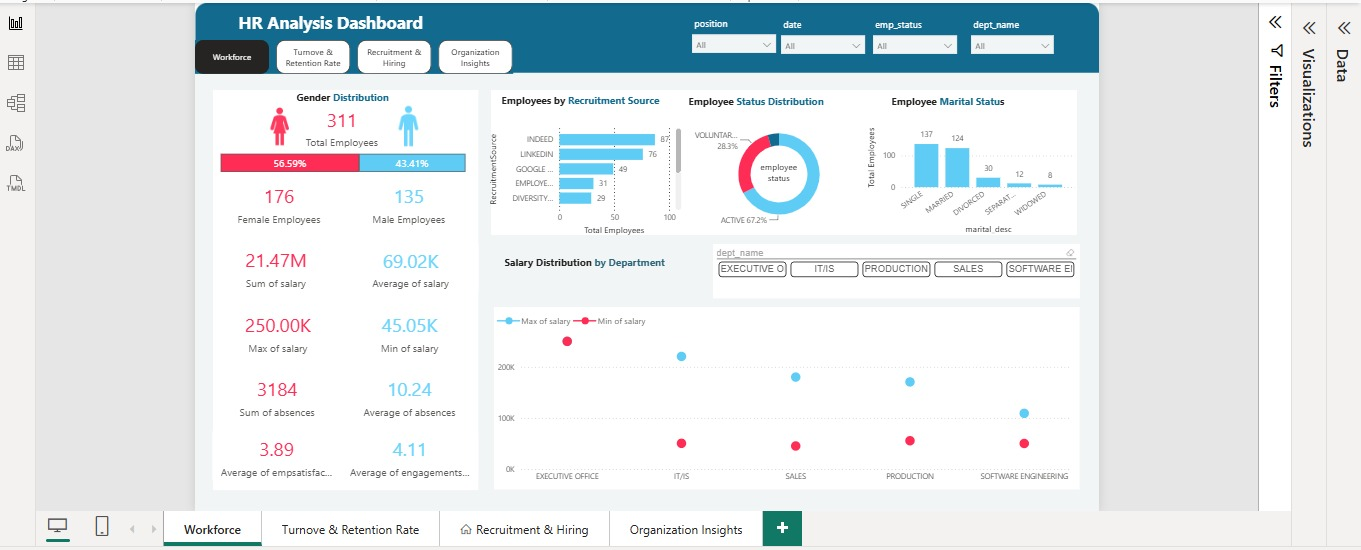

What the dashboard file says about the page in this screenshot:
{"tool":"powerbi","page":{"name":"Workforce","canvas":[1280,720],"ordinal":0},"visuals":[{"type":"shape","box":[419.5,123.3,830.6,205.5],"z":0},{"type":"donutChart","fields":{"Y":["fact_hr_snapshot.No. of Emp"],"Category":["dim_emp_status.emp_status"]},"box":[702.8,160,249.4,164.4],"z":0,"group":"g2"},{"type":"columnChart","fields":{"Category":["dim_emp.marital_desc"],"Y":["fact_hr_snapshot.No. of Emp"]},"box":[948.3,163.3,304.5,170],"z":0,"group":"g1"},{"type":"clusteredBarChart","fields":{"Category":["dim_recruitment.RecruitmentSource"],"Y":["fact_hr_snapshot.No. of Emp"]},"box":[412.9,164.3,281.7,170],"z":0,"group":"g3"},{"type":"textbox","box":[780.6,217.7,93.3,48.3],"z":1000,"group":"g2"},{"type":"shape","box":[424.3,431.4,830,258.6],"z":1000},{"type":"shape","box":[25.1,122.7,376.2,567.3],"z":2000},{"type":"textbox","box":[57.2,5.6,344.5,58.6],"z":3000},{"type":"hundredPercentStackedBarChart","fields":{"Series":["dim_emp.sex"],"Y":["fact_hr_snapshot.No. of Emp"]},"box":[25.2,160.1,366.7,124.8],"z":4000},{"type":"card","fields":{"Values":["dim_emp.Male Employees"]},"box":[206.2,239.4,195.1,89.5],"z":5000},{"type":"card","fields":{"Values":["Sum(fact_hr_snapshot.salary)"]},"box":[207,330.4,195.3,89.3],"z":6000},{"type":"card","fields":{"Values":["fact_hr_snapshot.Min Salary"]},"box":[206.2,421.4,195.1,89.5],"z":7000},{"type":"card","fields":{"Values":["fact_hr_snapshot.Average Absences"]},"box":[206.2,511.9,195.1,89.5],"z":8000},{"type":"card","fields":{"Values":["dim_emp.Female Employees"]},"box":[26.2,239.4,187.1,89.5],"z":9000},{"type":"card","fields":{"Values":["Avg(fact_hr_snapshot.salary)"]},"box":[15.1,330.9,198.1,89.5],"z":10000},{"type":"card","fields":{"Values":["fact_hr_snapshot.Max Salary"]},"box":[26.2,421.4,182,89.5],"z":11000},{"type":"card","fields":{"Values":["Sum(fact_hr_snapshot.absences)"]},"box":[26.2,511.9,180,89.5],"z":12000},{"type":"card","fields":{"Values":["Avg(fact_hr_snapshot.engagementsurvey)"]},"box":[205.2,596.4,196.1,89.5],"z":13000},{"type":"card","fields":{"Values":["fact_hr_snapshot.Average Satisfaction"]},"box":[24.1,596.4,181,89.5],"z":14000},{"type":"slicer","fields":{"Values":["dim_position.position"]},"box":[566.2,16.7,138.6,71.8],"z":15000},{"type":"slicer","fields":{"Values":["dim_emp_status.emp_status"]},"box":[694.8,16.7,138.6,71.8],"z":16000},{"type":"slicer","fields":{"Values":["Calendar_Hire.Year"]},"box":[820.6,17,138.9,65.2],"z":17000},{"type":"slicer","fields":{"Values":["dim_position.position"]},"box":[950.6,16.7,138.6,71.8],"z":18000},{"type":"slicer","fields":{"Values":["dim_department.dept_name"]},"box":[1089.9,17,137.5,70.9],"z":19000},{"type":"actionButton","box":[101.1,62.2,99.9,40],"z":20000},{"type":"actionButton","box":[264.3,62.2,156.6,40],"z":21000},{"type":"textbox","box":[430,122.9,242.9,51.4],"z":22000},{"type":"textbox","box":[138.9,119.1,146,39.7],"z":23000},{"type":"textbox","box":[433.7,352.7,411.5,40.5],"z":24000},{"type":"image","box":[86,140.7,67.4,68.6],"z":25000},{"type":"group","id":"g1","title":"Group 1","box":[948.3,163.3,305,170],"z":26000},{"type":"group","id":"g2","title":"Group 2","box":[702.8,160,249.4,164.4],"z":27000},{"type":"group","id":"g3","title":"Group 3","box":[412.9,164.3,281.4,170],"z":28000},{"type":"image","box":[264.9,138.5,74.5,71],"z":32000},{"type":"card","fields":{"Values":["fact_hr_snapshot.No. of Emp"]},"box":[120.5,134.6,185.7,89.3],"z":33000},{"type":"lineChart","title":"Max and Min of Annual Salary by Job Level","fields":{"Category":["dim_department.dept_name"],"Y":["fact_hr_snapshot.Max Salary","fact_hr_snapshot.Min Salary"]},"box":[424.3,431.4,834.3,258.6],"z":34000},{"type":"textbox","box":[694.5,124.7,265,39.7],"z":35000},{"type":"textbox","box":[982.2,124.7,238.1,39.7],"z":36000},{"type":"ChicletSlicer1448559807354","fields":{"Category":["dim_department.dept_name"]},"box":[734.3,341.4,520,77.1],"z":37000}]}

Visuals, with their boxes on the page's 1280x720 design canvas (x1, y1, x2, y2). These are canvas units, not pixel positions in the 1361x550 screenshot, which may show the page scaled, cropped or inside an application window:
shape: (420,123,1250,329)
donutChart - fact_hr_snapshot.No. of Emp x dim_emp_status.emp_status: (703,160,952,324)
columnChart - dim_emp.marital_desc x fact_hr_snapshot.No. of Emp: (948,163,1253,333)
clusteredBarChart - dim_recruitment.RecruitmentSource x fact_hr_snapshot.No. of Emp: (413,164,695,334)
textbox: (781,218,874,266)
shape: (424,431,1254,690)
shape: (25,123,401,690)
textbox: (57,6,402,64)
hundredPercentStackedBarChart - dim_emp.sex x fact_hr_snapshot.No. of Emp: (25,160,392,285)
card - dim_emp.Male Employees: (206,239,401,329)
card - Sum(fact_hr_snapshot.salary): (207,330,402,420)
card - fact_hr_snapshot.Min Salary: (206,421,401,511)
card - fact_hr_snapshot.Average Absences: (206,512,401,601)
card - dim_emp.Female Employees: (26,239,213,329)
card - Avg(fact_hr_snapshot.salary): (15,331,213,420)
card - fact_hr_snapshot.Max Salary: (26,421,208,511)
card - Sum(fact_hr_snapshot.absences): (26,512,206,601)
card - Avg(fact_hr_snapshot.engagementsurvey): (205,596,401,686)
card - fact_hr_snapshot.Average Satisfaction: (24,596,205,686)
slicer - dim_position.position: (566,17,705,88)
slicer - dim_emp_status.emp_status: (695,17,833,88)
slicer - Calendar_Hire.Year: (821,17,960,82)
slicer - dim_position.position: (951,17,1089,88)
slicer - dim_department.dept_name: (1090,17,1227,88)
actionButton: (101,62,201,102)
actionButton: (264,62,421,102)
textbox: (430,123,673,174)
textbox: (139,119,285,159)
textbox: (434,353,845,393)
image: (86,141,153,209)
"Group 1" group: (948,163,1253,333)
"Group 2" group: (703,160,952,324)
"Group 3" group: (413,164,694,334)
image: (265,138,339,210)
card - fact_hr_snapshot.No. of Emp: (120,135,306,224)
"Max and Min of Annual Salary by Job Level" lineChart: (424,431,1259,690)
textbox: (694,125,960,164)
textbox: (982,125,1220,164)
ChicletSlicer1448559807354 - dim_department.dept_name: (734,341,1254,418)
